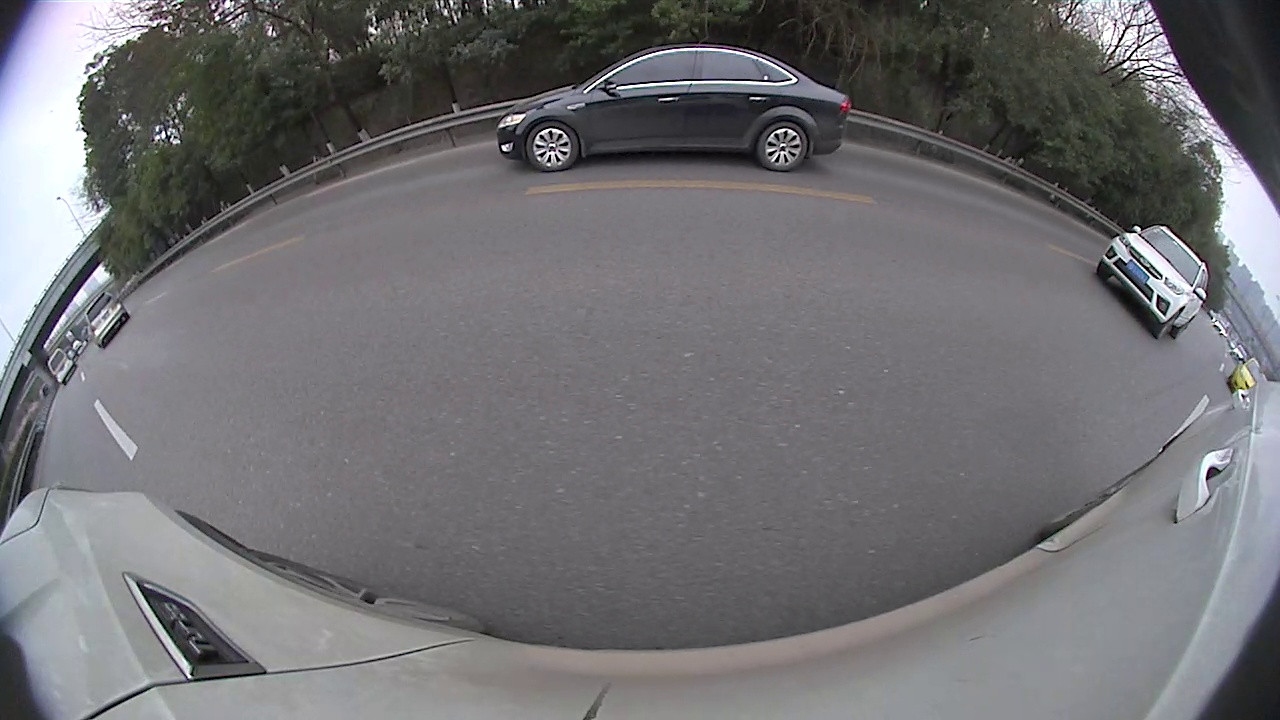car: (495, 42, 854, 174), (1095, 223, 1211, 341), (83, 290, 132, 350), (1226, 356, 1269, 394), (46, 347, 78, 387)
front: (528, 122, 577, 171), (1157, 309, 1182, 340)
rear: (761, 123, 805, 171)
